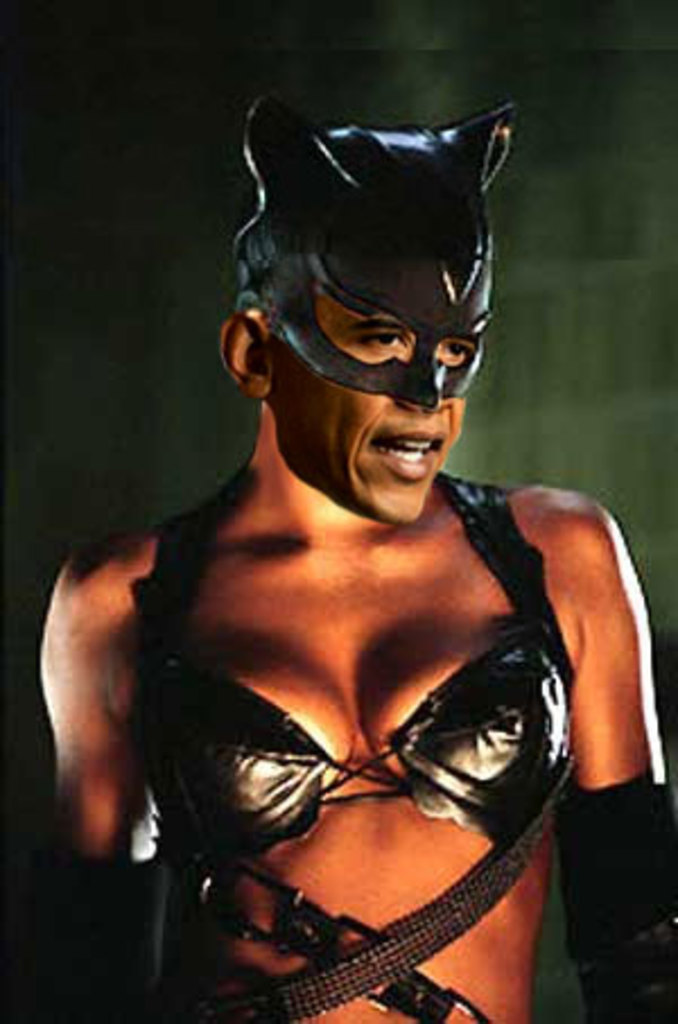face: (317, 216, 473, 524)
